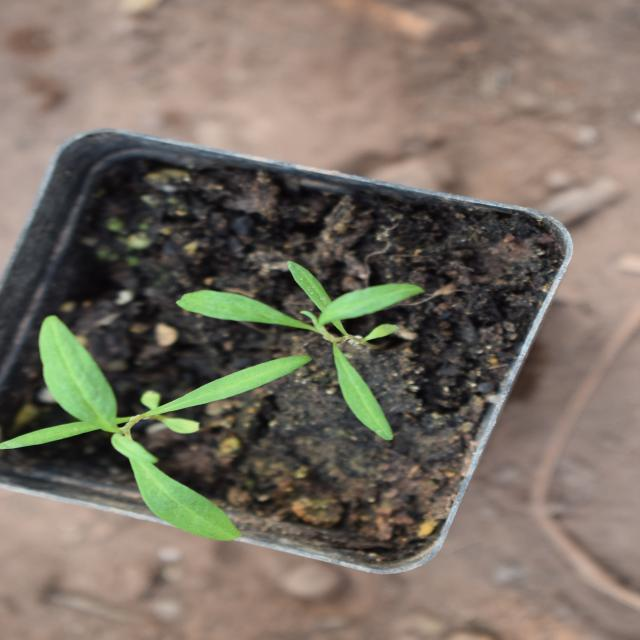white_smart_weed: (96, 0, 328, 269), (212, 209, 408, 414)
